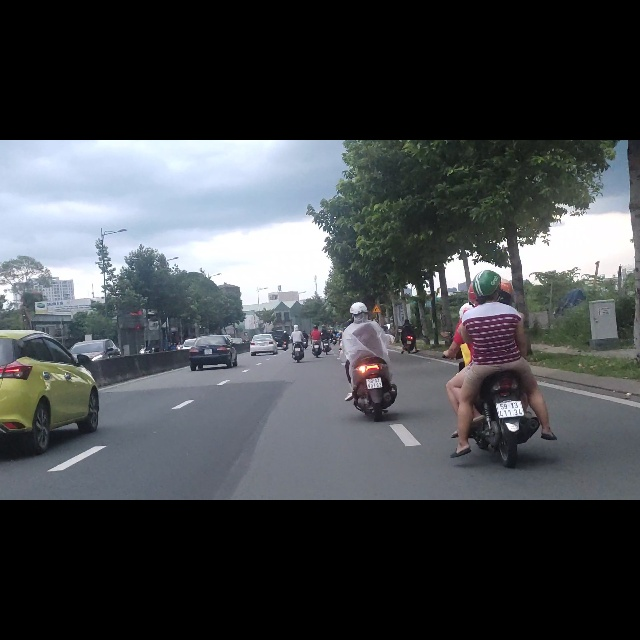bien_nguy_hiem: (372, 290, 382, 308)
